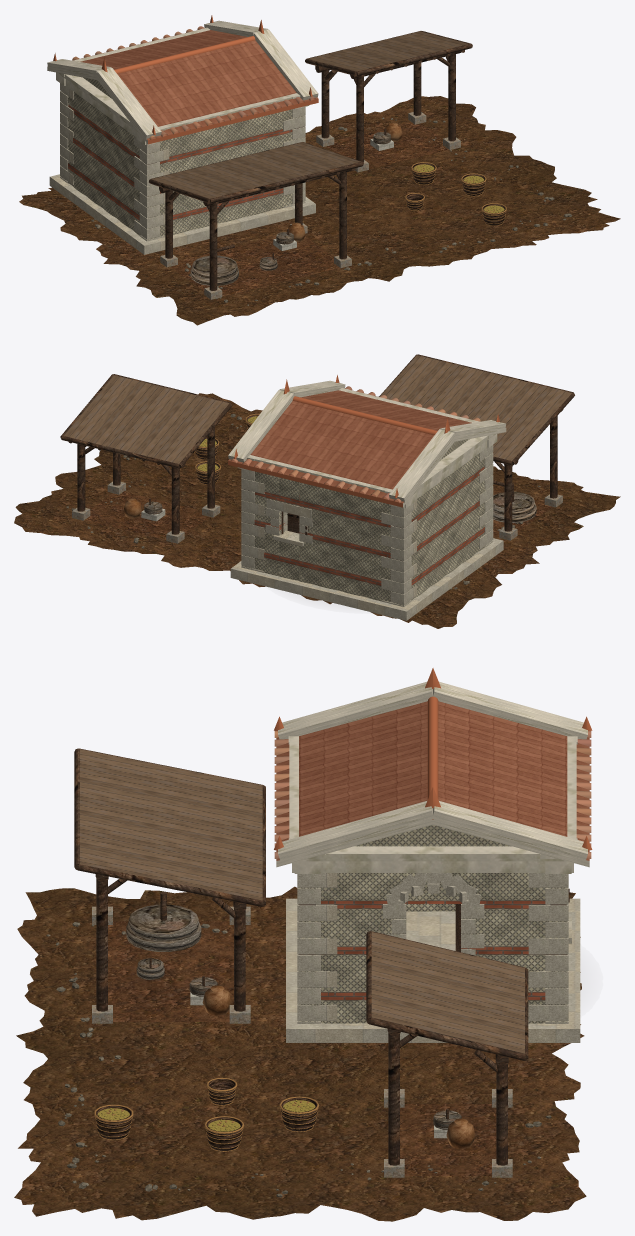
The model's file is mill@2.glb.
3 views of the same model, one above another, from view 1: azimuth 30°, elevation 25°; view 2: azimuth 150°, elevation 25°; view 3: azimuth 270°, elevation 25° (orthographic). The views are drawn at different scales.
Parts seen in each view (by area): view 1: part_1, part_4, part_18, part_6, part_9, part_5, part_17, part_7, part_19, part_14, part_11, part_8 (+4 smaller); view 2: part_1, part_4, part_9, part_18, part_5, part_17, part_6, part_7, part_19, part_14, part_8, part_20 (+1 smaller); view 3: part_1, part_9, part_18, part_17, part_5, part_4, part_7, part_6, part_14, part_11, part_20, part_8 (+5 smaller).
Boxes of the visible parts, x1,y1,x2,y2 form: part_1: [19, 96, 620, 325]; part_4: [61, 77, 304, 239]; part_18: [80, 30, 318, 140]; part_6: [149, 31, 472, 290]; part_9: [151, 31, 468, 198]; part_5: [49, 83, 315, 254]; part_17: [47, 20, 318, 145]; part_7: [170, 122, 448, 296]; part_19: [53, 15, 318, 144]; part_14: [190, 132, 390, 285]; part_11: [406, 162, 505, 225]; part_8: [160, 112, 460, 299]; part_1: [14, 393, 620, 628]; part_4: [242, 439, 492, 605]; part_9: [63, 355, 571, 463]; part_18: [228, 390, 471, 503]; part_5: [230, 445, 503, 620]; part_17: [228, 380, 506, 508]; part_6: [60, 354, 574, 535]; part_7: [84, 488, 552, 539]; part_19: [228, 375, 499, 507]; part_14: [144, 491, 536, 522]; part_8: [72, 481, 562, 543]; part_20: [230, 386, 480, 502]; part_1: [14, 886, 586, 1221]; part_9: [78, 749, 524, 1053]; part_18: [276, 701, 589, 860]; part_17: [276, 681, 589, 873]; part_5: [286, 873, 580, 1042]; part_4: [298, 825, 567, 1023]; part_7: [108, 921, 496, 1175]; part_6: [74, 748, 569, 1165]; part_14: [126, 904, 461, 1129]; part_11: [95, 1079, 317, 1151]; part_20: [274, 731, 591, 858]; part_8: [92, 906, 512, 1177].
Bounding box in the file's own units: 9.13 × 3.23 × 6.99.
Materials: 21 (16 with a texture image).
